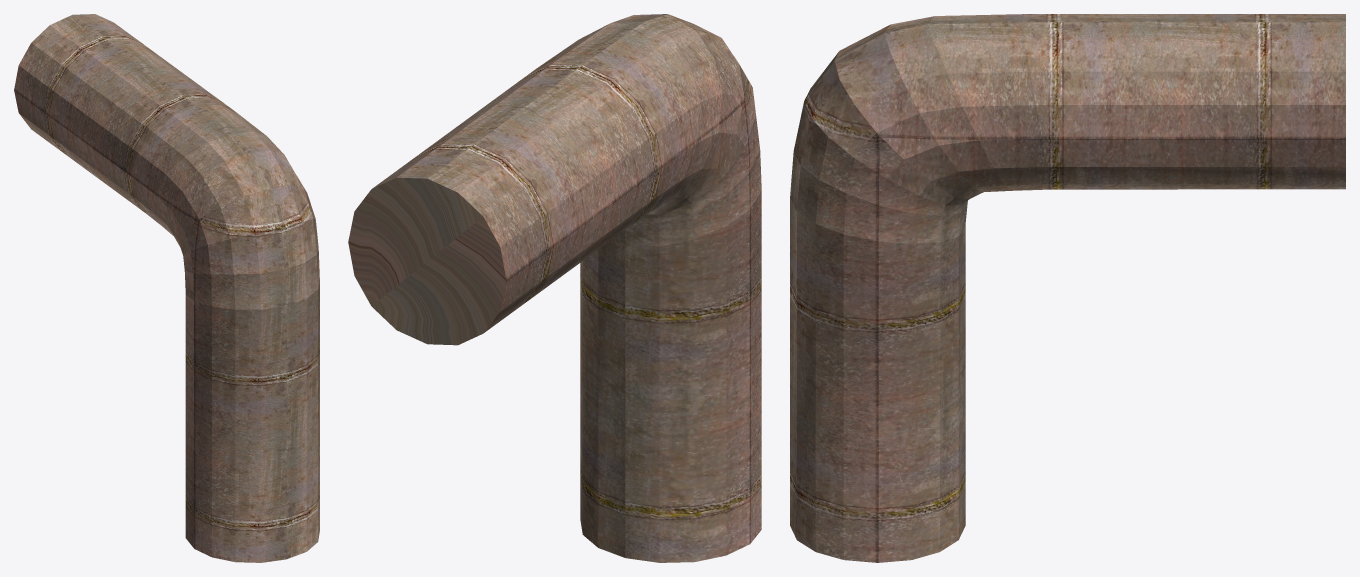
File: O_Pipe4.glb
3 renders of one model, left to right at view 1: azimuth 30°, elevation 25°; view 2: azimuth 150°, elevation 25°; view 3: azimuth 270°, elevation 25°, orthographic. The views are drawn at different scales.
Visible parts, largest first — view 1: _O_Pipe4; view 2: _O_Pipe4; view 3: _O_Pipe4.
Boxes of the visible parts, x1=… form: _O_Pipe4: x1=14, y1=14, x2=319, y2=562; _O_Pipe4: x1=348, y1=14, x2=761, y2=562; _O_Pipe4: x1=790, y1=14, x2=1345, y2=562.
Size of the model in its own units: 1.5 by 4.75 by 4.75.
Materials: 1 (1 with a texture image).
